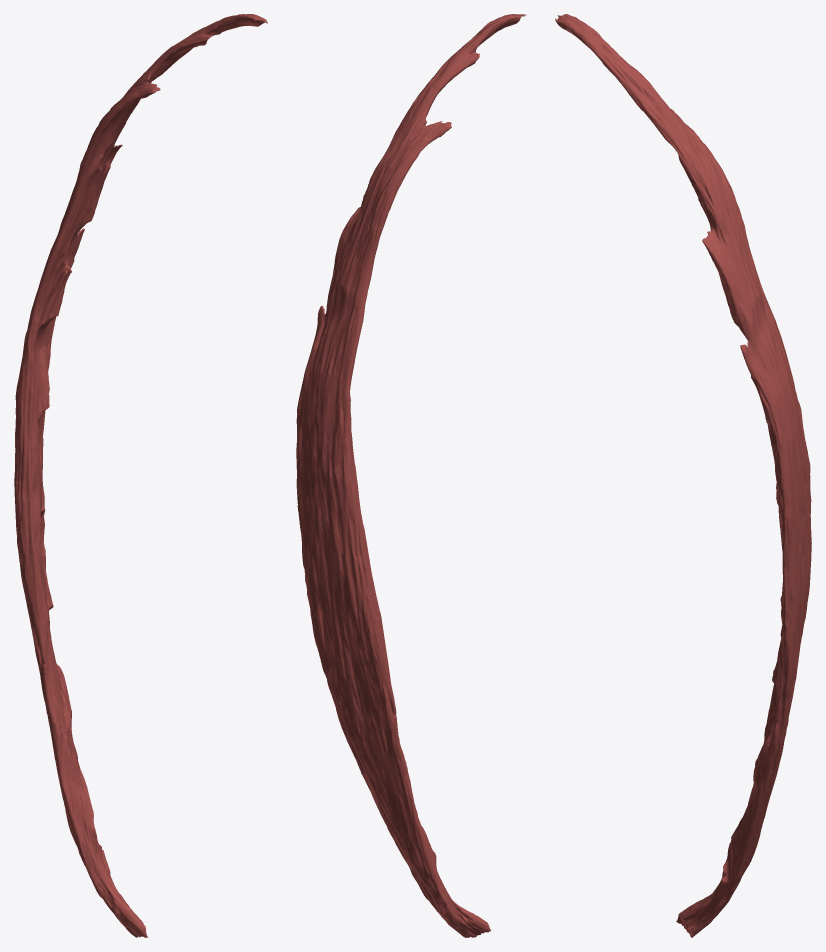
The model's file is FMA22743.glb.
The picture shows the model from 3 angles, left to right: view 1: azimuth 90°, elevation 25°; view 2: azimuth 150°, elevation 25°; view 3: azimuth 270°, elevation 25°; orthographic projection. The views are drawn at different scales.
Parts seen in each view (by area): view 1: FMA22743; view 2: FMA22743; view 3: FMA22743.
Boxes of the visible parts, left/top/right/bottom form: FMA22743: left=14, top=14, right=267, bottom=937; FMA22743: left=296, top=14, right=526, bottom=937; FMA22743: left=555, top=14, right=811, bottom=937.
Bounding box in the file's own units: 0.0529 × 0.3062 × 0.077.
